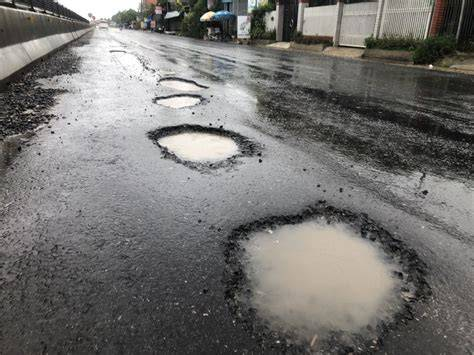POTHOLE: (216, 196, 436, 355), (147, 122, 259, 169), (154, 90, 206, 109)
